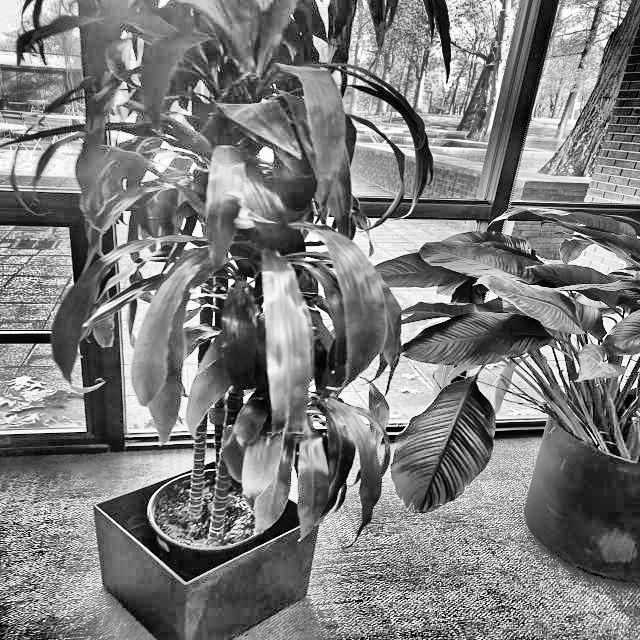plants: (32, 1, 377, 502), (458, 182, 640, 441)
